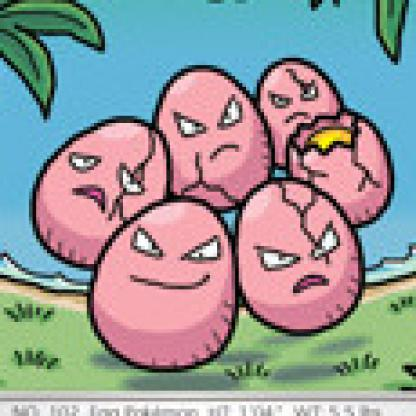Exeggcute: (29, 54, 394, 375)
